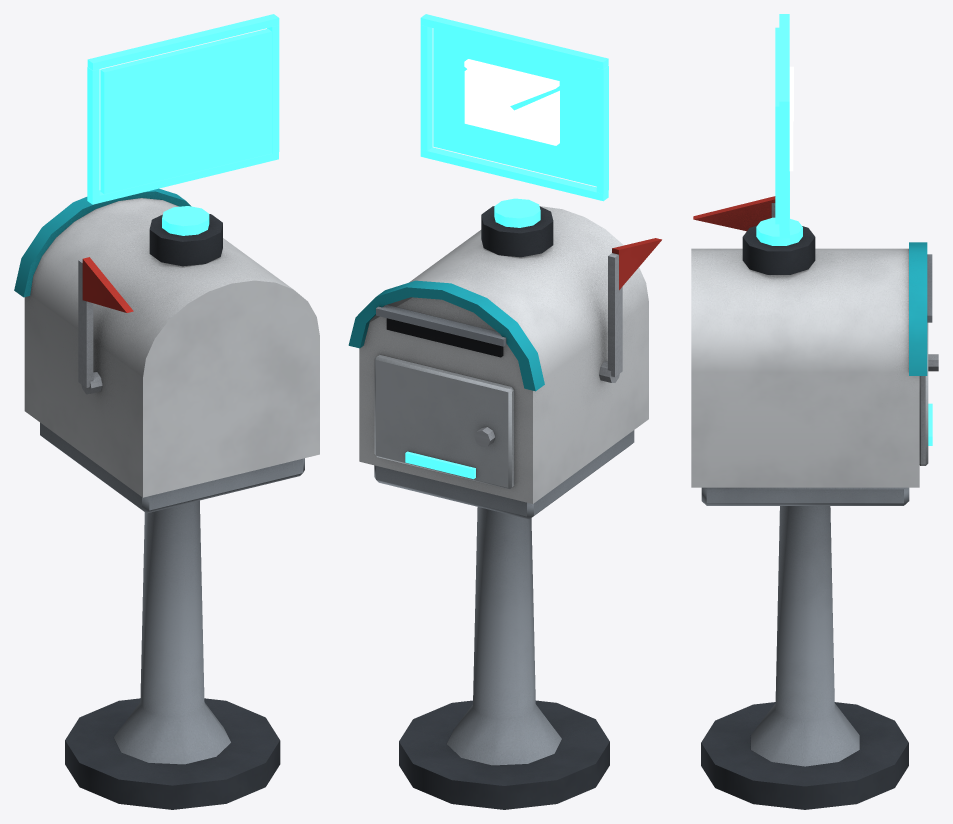
The model's file is buzon.fbx.
3 renders of one model, left to right at view 1: azimuth 30°, elevation 25°; view 2: azimuth 150°, elevation 25°; view 3: azimuth 270°, elevation 25°, orthographic. The views are drawn at different scales.
Parts seen in each view (by area): view 1: buzon, buzon_pantalla_neon, buzon_bandera, buzon_neon; view 2: buzon, buzon_pantalla_neon, buzon_portezuela, buzon_blanco_luz, buzon_bandera, buzon_neon; view 3: buzon, buzon_pantalla_neon, buzon_bandera, buzon_portezuela, buzon_neon, buzon_blanco_luz.
Part boxes in pixels (x1,y1,x2,y2): buzon: (14,188,319,809); buzon_pantalla_neon: (87,14,279,204); buzon_bandera: (78,257,133,387); buzon_neon: (162,206,209,235); buzon: (348,206,648,809); buzon_pantalla_neon: (420,14,608,201); buzon_portezuela: (374,355,514,489); buzon_blanco_luz: (464,59,559,145); buzon_bandera: (608,238,661,376); buzon_neon: (405,198,540,479); buzon: (691,225,932,809); buzon_pantalla_neon: (775,14,789,238); buzon_bandera: (693,196,775,231); buzon_portezuela: (919,322,938,465); buzon_neon: (756,217,932,445); buzon_blanco_luz: (789,66,793,171).
Bounding box in the file's own units: 0.8551 × 3.01 × 0.9529.
Materials: 2 (2 with a texture image).
